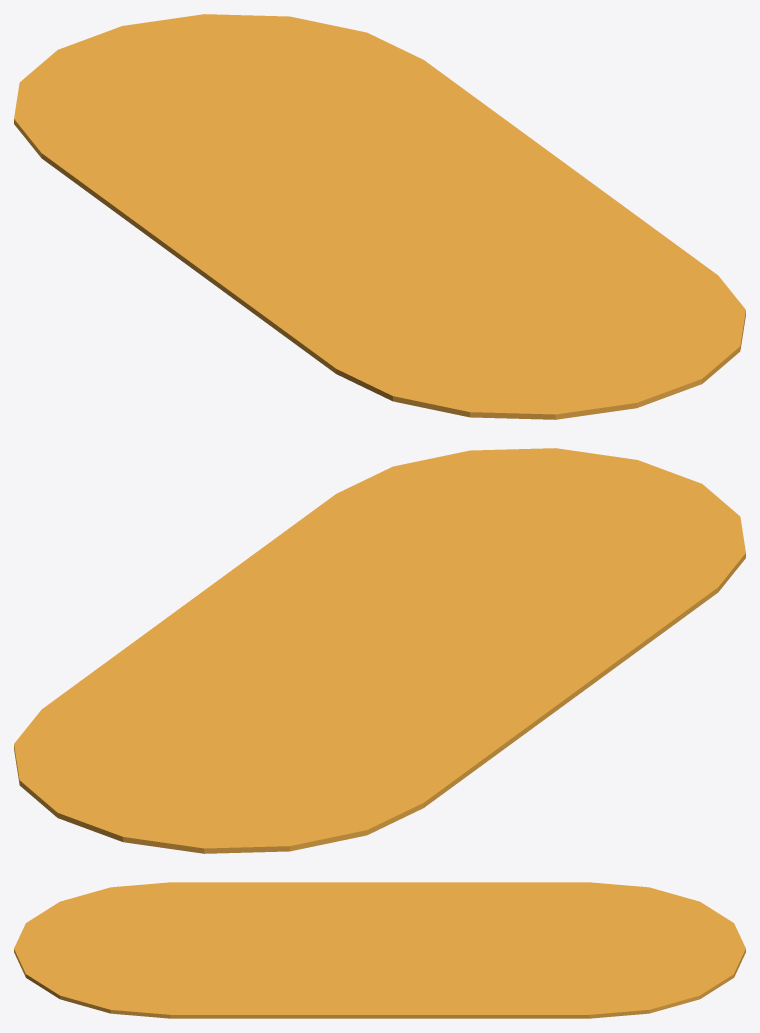
File: Int_Carpet03_4.fbx
3 views of the same model, one above another, from view 1: azimuth 30°, elevation 25°; view 2: azimuth 150°, elevation 25°; view 3: azimuth 270°, elevation 25° (orthographic). The views are drawn at different scales.
Parts seen in each view (by area): view 1: Int_Carpet03_4; view 2: Int_Carpet03_4; view 3: Int_Carpet03_4.
Part boxes in pixels (x1,y1,x2,y2): Int_Carpet03_4: (14, 14, 745, 419); Int_Carpet03_4: (14, 448, 745, 853); Int_Carpet03_4: (14, 882, 745, 1018).
Size of what is drawn, in the model's own units: 150 by 350 by 2.
